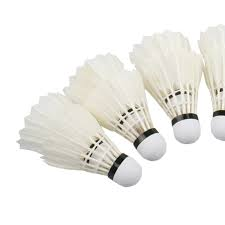shuttle: (141, 28, 213, 138)
